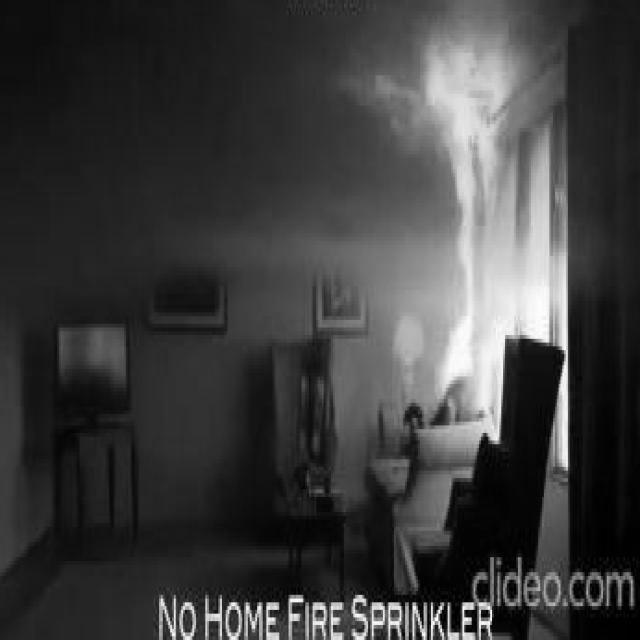smoke: (378, 30, 502, 185), (433, 184, 481, 380)
